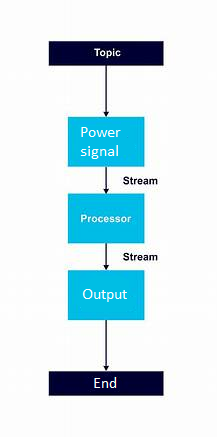arrow: (100, 63, 112, 116), (101, 318, 111, 370), (102, 240, 112, 273), (101, 167, 111, 196)
process: (65, 267, 147, 322), (65, 115, 148, 169), (65, 192, 147, 245), (47, 39, 166, 68), (47, 369, 166, 398)
text: (78, 124, 122, 161), (81, 286, 129, 303), (79, 212, 133, 224), (92, 45, 123, 60), (121, 251, 159, 263), (122, 174, 159, 186), (92, 376, 119, 390)
